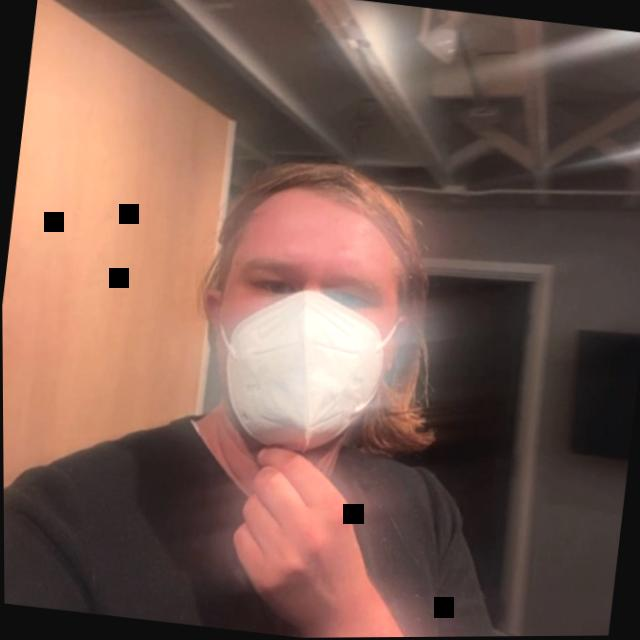Mask: (172, 138, 460, 489)
